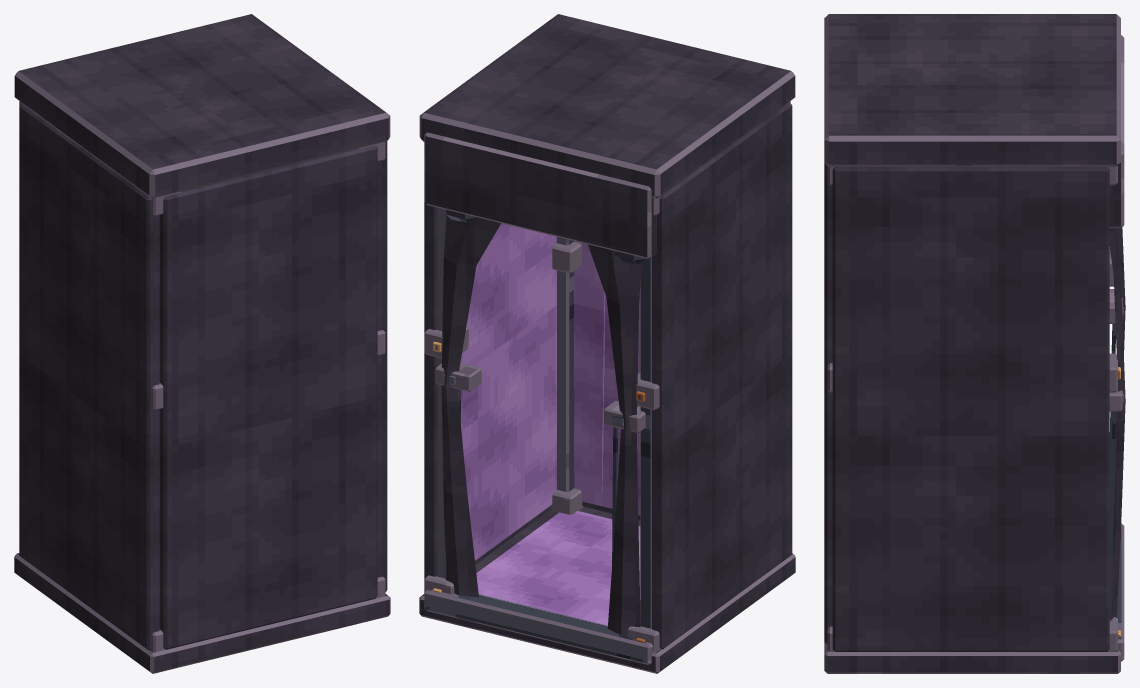
The model's file is placed_grow_tent_1.obj.
3 views of the same model, side by side, from view 1: azimuth 30°, elevation 25°; view 2: azimuth 150°, elevation 25°; view 3: azimuth 270°, elevation 25° (orthographic). The views are drawn at different scales.
Parts seen in each view (by area): view 1: model; view 2: model; view 3: model.
Boxes of the visible parts, x1,y1,x2,y2 form: model: (14, 14, 390, 673); model: (419, 14, 795, 673); model: (824, 14, 1125, 673).
Size of the model in its own units: 1.12 by 2.25 by 1.14.
